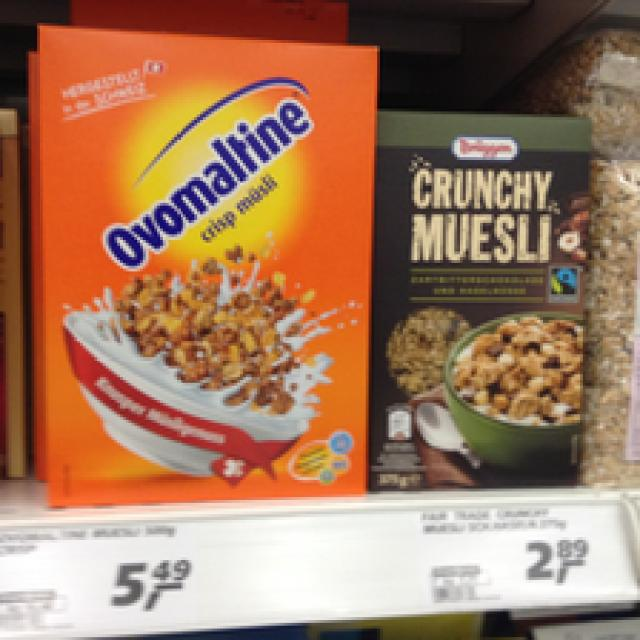groceries: (29, 17, 380, 500), (372, 106, 594, 491)
